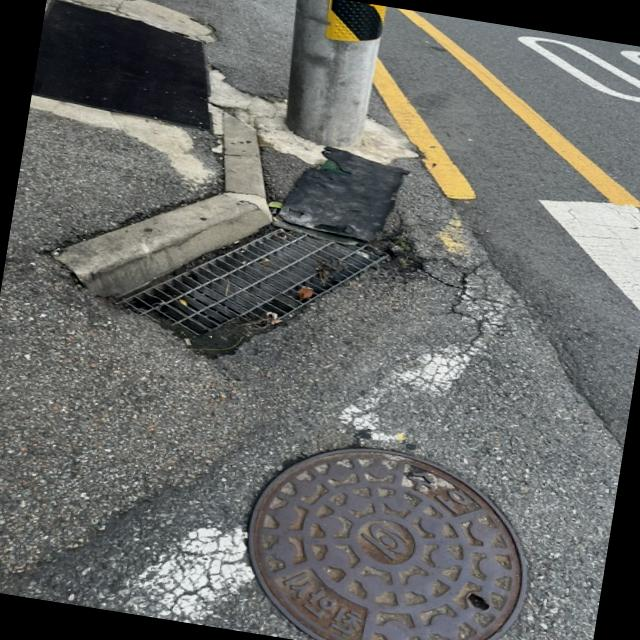drain_area: (134, 236, 372, 336)
drain_full: (117, 215, 387, 362)
